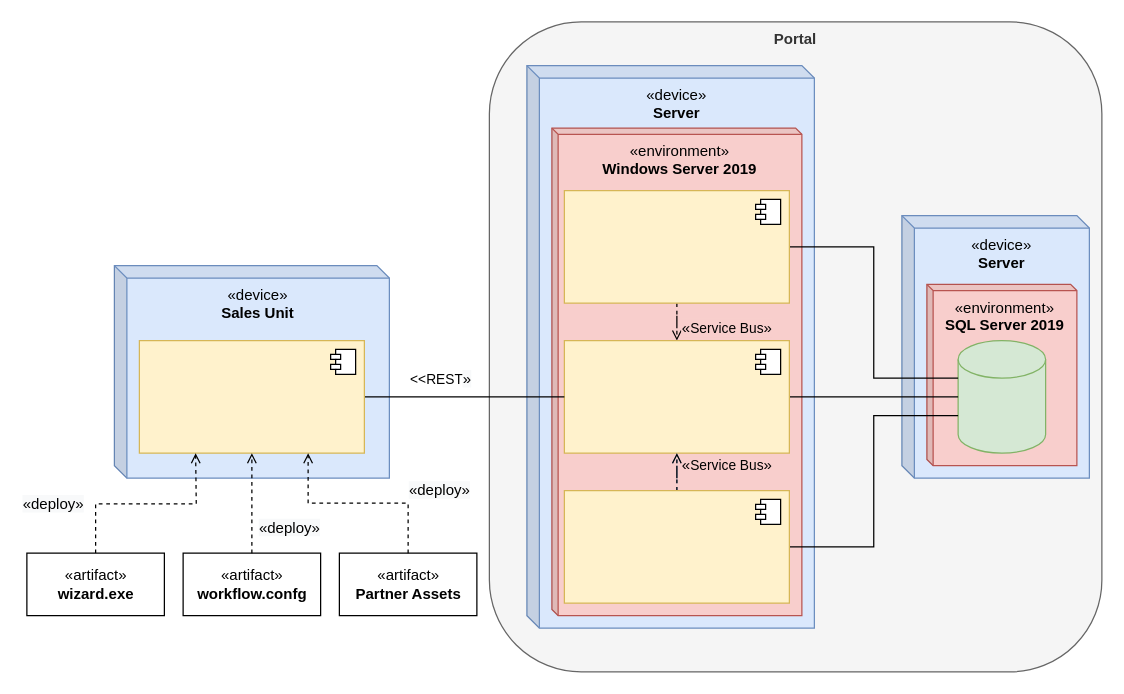
Some shapes in this 1124 by 694 pixel diagram are drawn without their labels. The shapes that lost their labels are listed below. From the top down, each one's centre as x and y in pixels, then its label:
[676,246]: «subsystem» Costumer Management
[251,396]: «system» Wizard
[676,396]: «subsystem» Order Management
[1001,396]: Prod
[676,546]: «service» Partner Management
